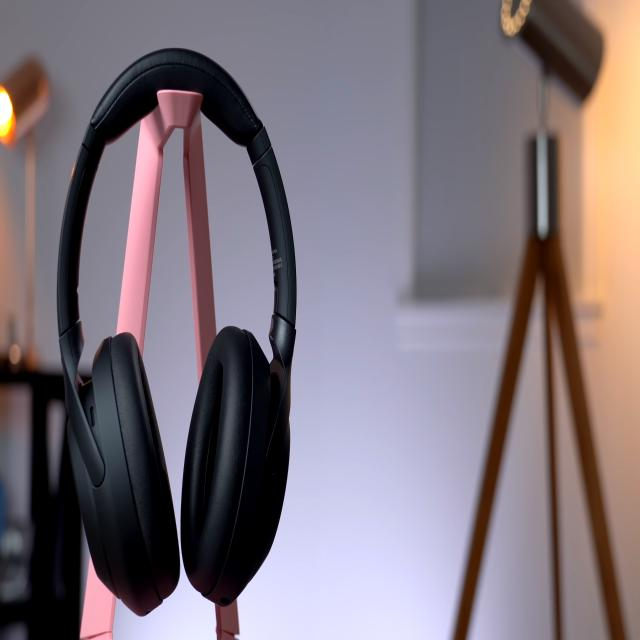Headphone: (55, 43, 300, 619)
